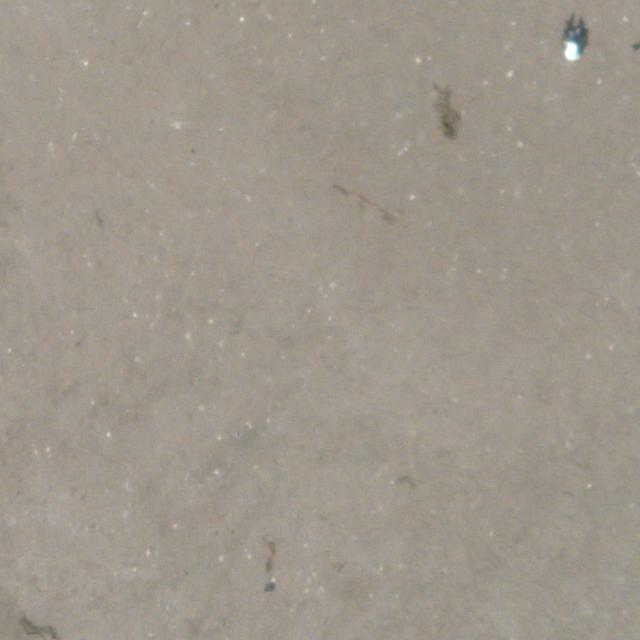umineko: (566, 27, 583, 61)
